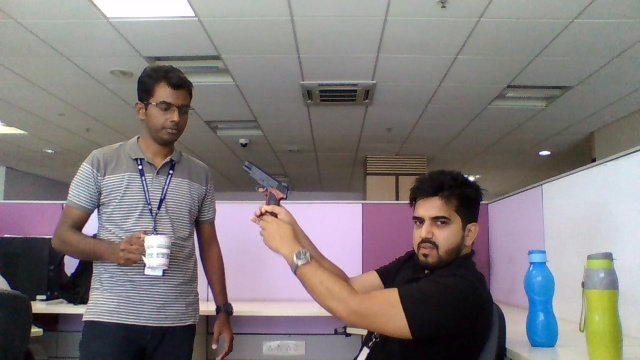gun: (242, 159, 291, 207)
